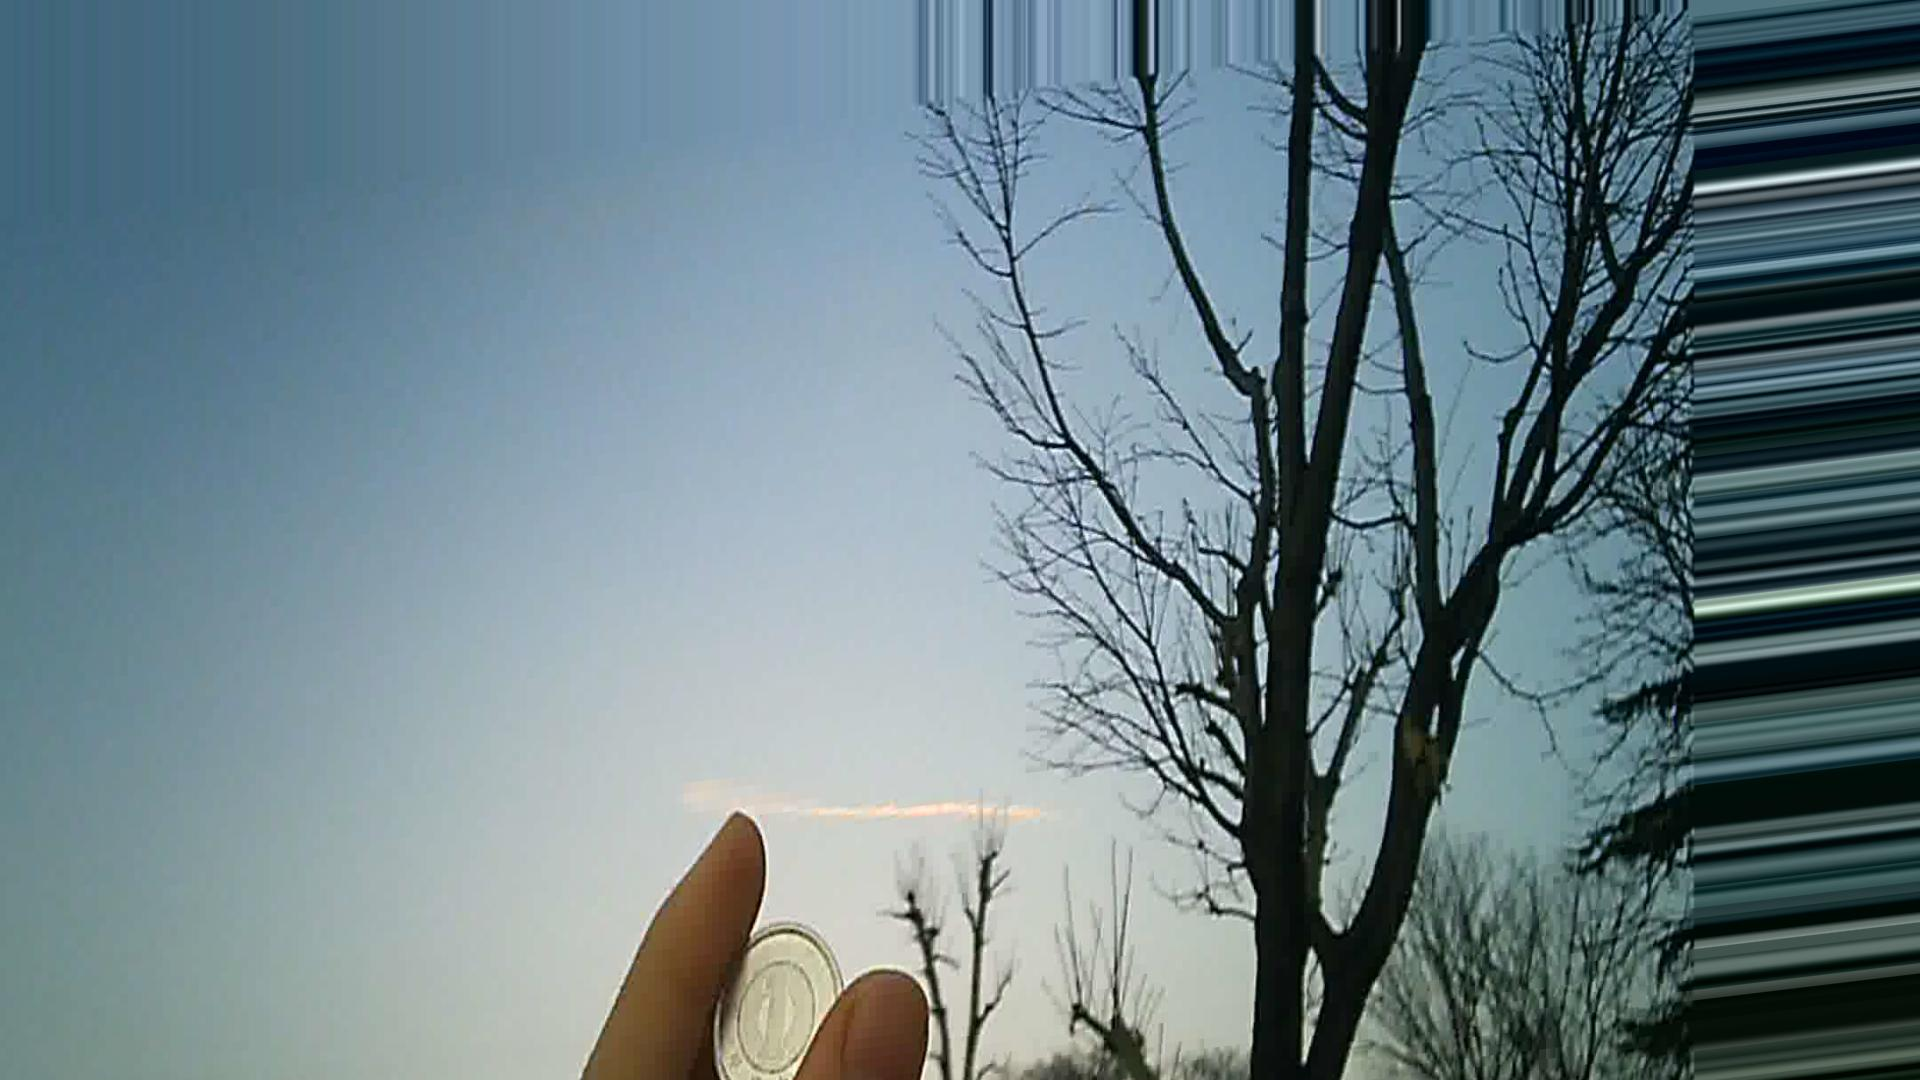1 Yen: (700, 916, 855, 1077)
